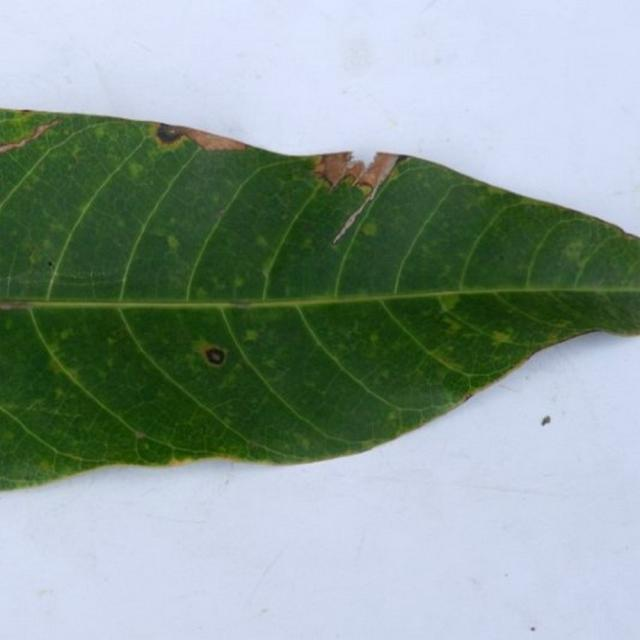Mango: (0, 109, 639, 488)
Powdery_Mildew: (431, 289, 468, 314), (158, 228, 184, 256), (354, 224, 385, 245), (562, 237, 586, 262), (259, 263, 273, 298), (49, 357, 70, 375), (28, 248, 45, 266), (386, 164, 403, 182), (208, 275, 227, 291), (491, 330, 512, 344), (360, 221, 378, 237), (356, 182, 374, 196), (444, 320, 462, 333), (311, 155, 326, 170), (232, 300, 253, 310), (262, 260, 275, 275), (128, 162, 143, 175), (247, 439, 263, 451), (232, 275, 245, 289), (300, 238, 314, 251), (244, 329, 259, 341), (38, 459, 53, 470), (255, 235, 268, 247), (441, 264, 453, 276), (299, 436, 311, 448), (195, 287, 208, 298), (59, 329, 72, 340), (41, 238, 53, 249), (3, 430, 15, 441), (72, 145, 82, 157), (264, 359, 276, 369), (134, 429, 146, 439), (369, 333, 379, 344), (54, 389, 65, 399), (379, 369, 390, 378), (107, 337, 117, 346), (388, 411, 397, 421), (261, 268, 269, 279), (168, 217, 177, 226), (217, 209, 226, 218), (19, 109, 33, 114), (142, 443, 150, 451), (499, 255, 505, 260)
